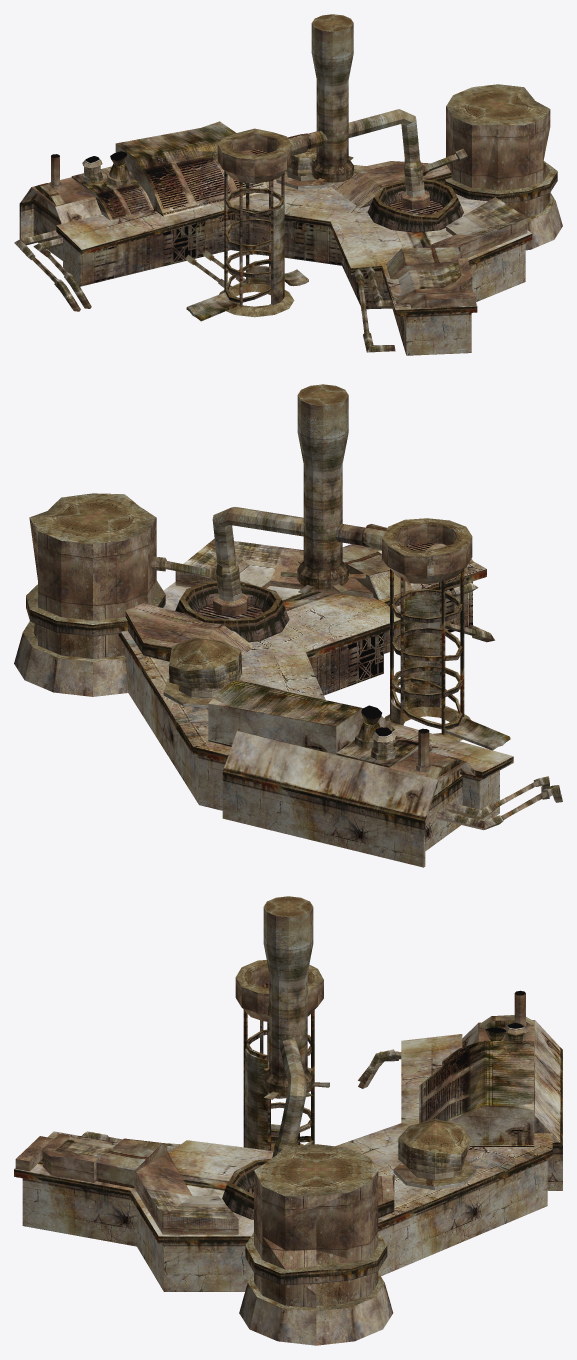
Rendered from eaw_abandonedFactory.glb.
3 views of the same model, one above another, from view 1: azimuth 30°, elevation 25°; view 2: azimuth 150°, elevation 25°; view 3: azimuth 270°, elevation 25° (orthographic). The views are drawn at different scales.
Visible parts, largest first — view 1: polymsh2_3, polymsh2_1, polymsh2_0; view 2: polymsh2_3, polymsh2_1, polymsh2_0; view 3: polymsh2_3, polymsh2_1, polymsh2_0.
Boxes of the visible parts, x1=… form: polymsh2_3: x1=14, y1=106, x2=562, y2=355; polymsh2_1: x1=56, y1=84, x2=557, y2=309; polymsh2_0: x1=311, y1=14, x2=353, y2=182; polymsh2_3: x1=14, y1=507, x2=562, y2=867; polymsh2_1: x1=23, y1=493, x2=513, y2=771; polymsh2_0: x1=297, y1=384, x2=348, y2=589; polymsh2_3: x1=14, y1=960, x2=562, y2=1345; polymsh2_1: x1=14, y1=1034, x2=552, y2=1311; polymsh2_0: x1=263, y1=896, x2=313, y2=1096.
Size of the model in its own units: 100 by 52.7 by 85.93.
4 materials, 4 textured.
